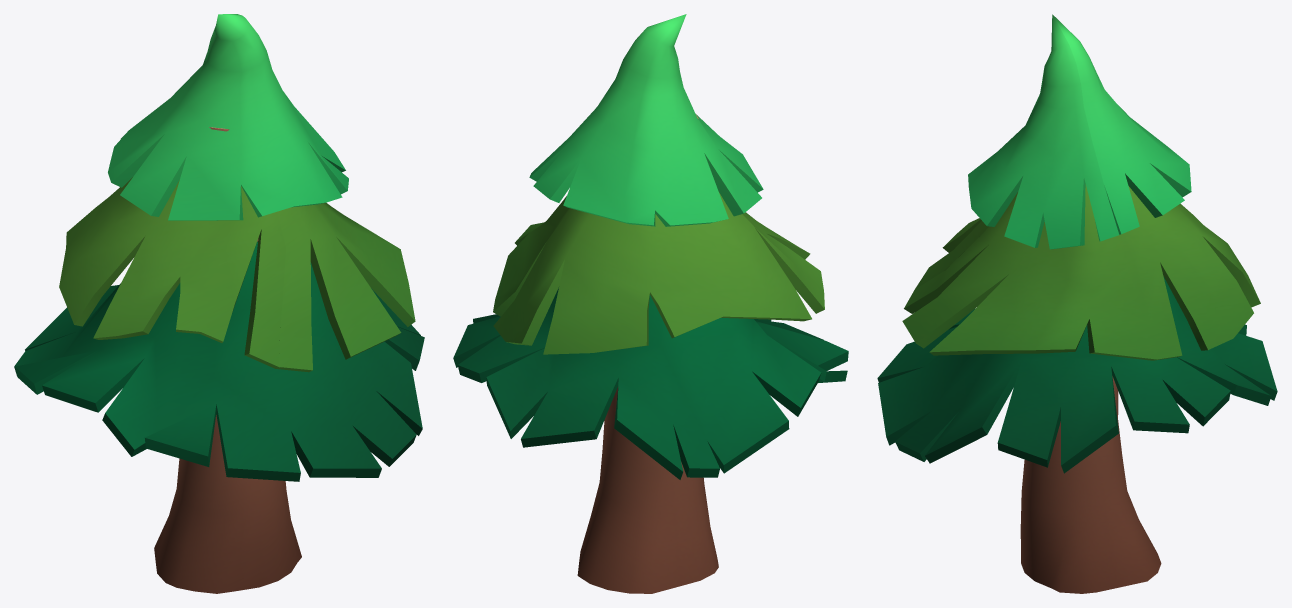
Rendered from Arbol3_v2.fbx.
The picture shows the model from 3 angles, left to right: view 1: azimuth 30°, elevation 25°; view 2: azimuth 150°, elevation 25°; view 3: azimuth 270°, elevation 25°; orthographic projection. The views are drawn at different scales.
Visible parts, largest first — view 1: Arbol3; view 2: Arbol3; view 3: Arbol3.
Part boxes in pixels (left/top/right/bottom): Arbol3: left=14, top=14, right=424, bottom=593; Arbol3: left=453, top=14, right=848, bottom=593; Arbol3: left=877, top=14, right=1277, bottom=593.
Bounding box in the file's own units: 4.07 × 6.2 × 4.18.
